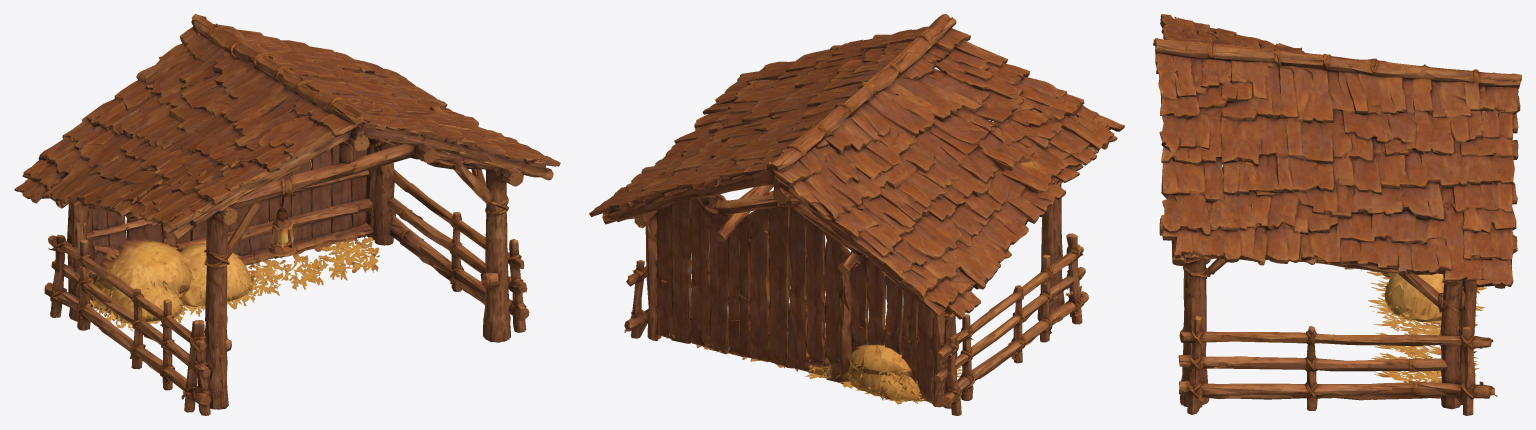
File: stable.glb
The picture shows the model from 3 angles, left to right: view 1: azimuth 30°, elevation 25°; view 2: azimuth 150°, elevation 25°; view 3: azimuth 270°, elevation 25°; orthographic projection. The views are drawn at different scales.
Bounding box in the file's own units: 1.89 × 1.26 × 1.46.
1 material, 1 textured.
